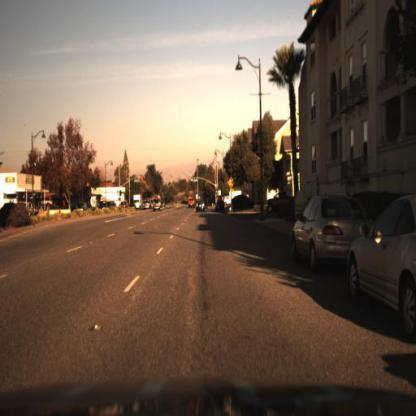car: (348, 194, 416, 342), (292, 196, 375, 274), (267, 192, 293, 215), (152, 191, 164, 216), (195, 198, 207, 217)
